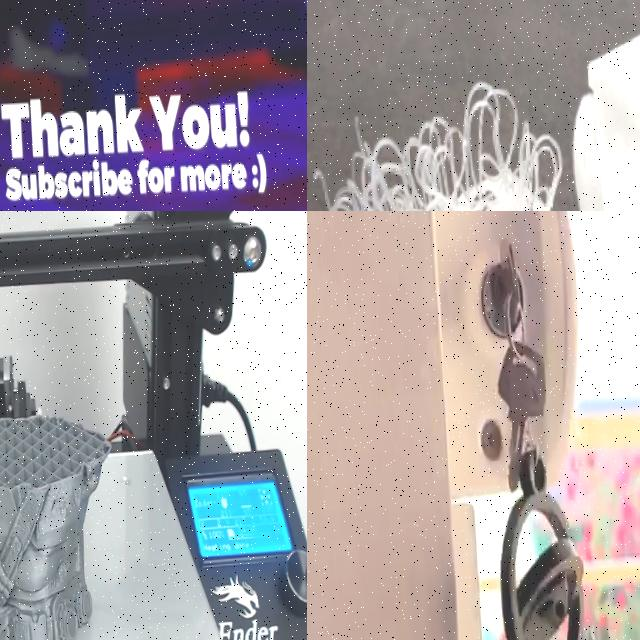spaghetti: (307, 96, 523, 211)
